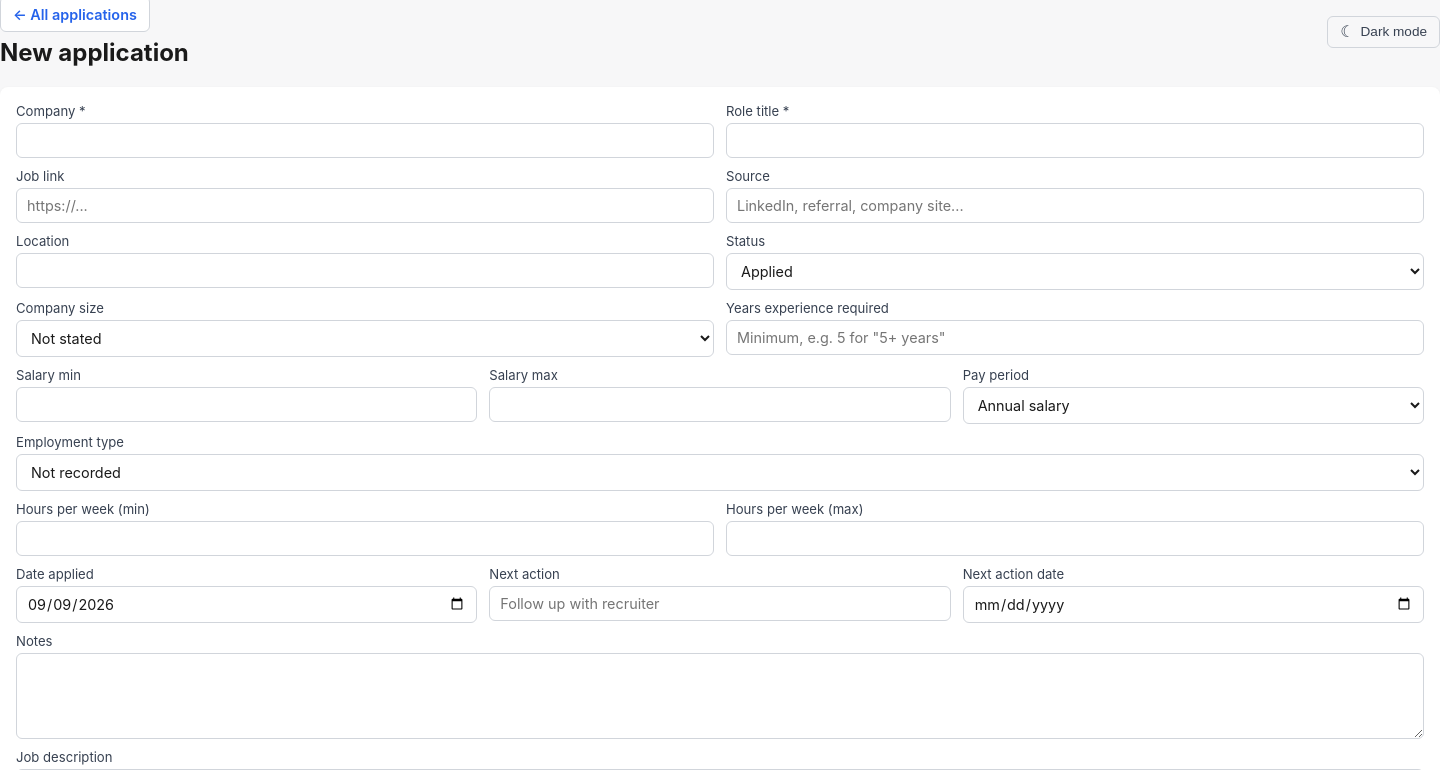
Test case: ApplicationPage — new application › switches to the saved application without crashing
This screenshot has width=1440, height=770.
expect the heading "New application" is shown: met, box [0,38,189,67]
Type "Brand New Co" into the field labelled "Company *" at (365, 140), box [16,123,714,158]
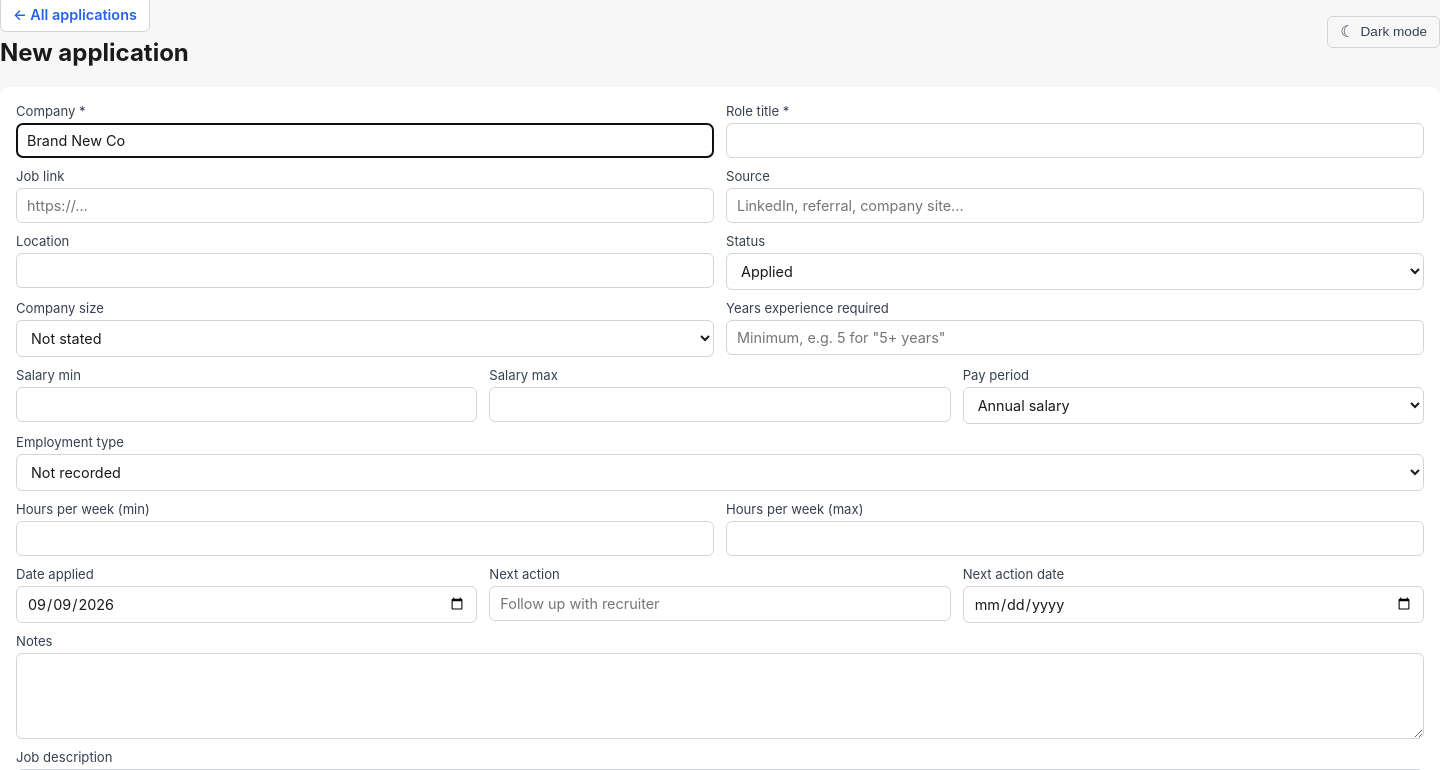
Type "QA Lead" into the field labelled "Role title *" at (1075, 140), box [726,123,1424,158]
(page scrolled)
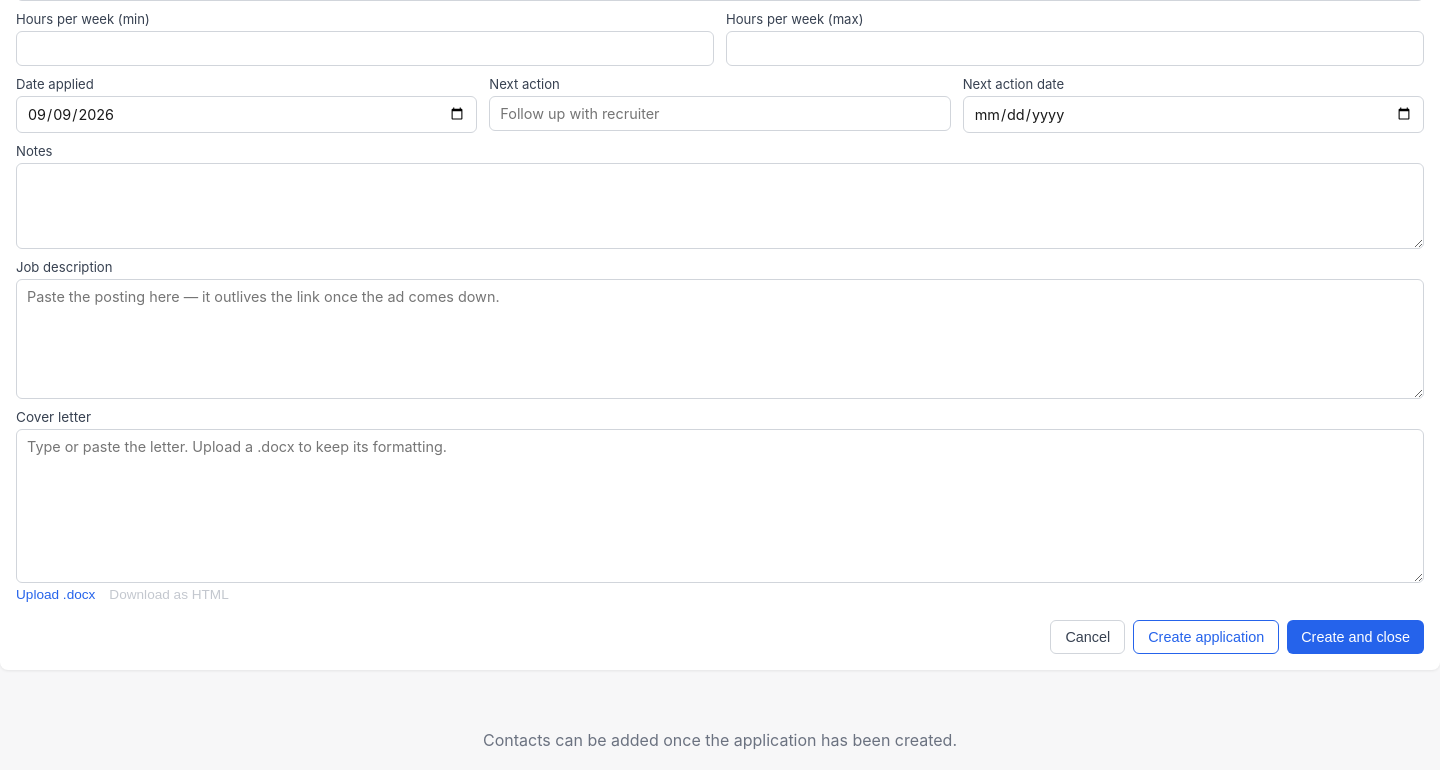
Click the button "Create application" at (1206, 637), box [1133,620,1279,654]
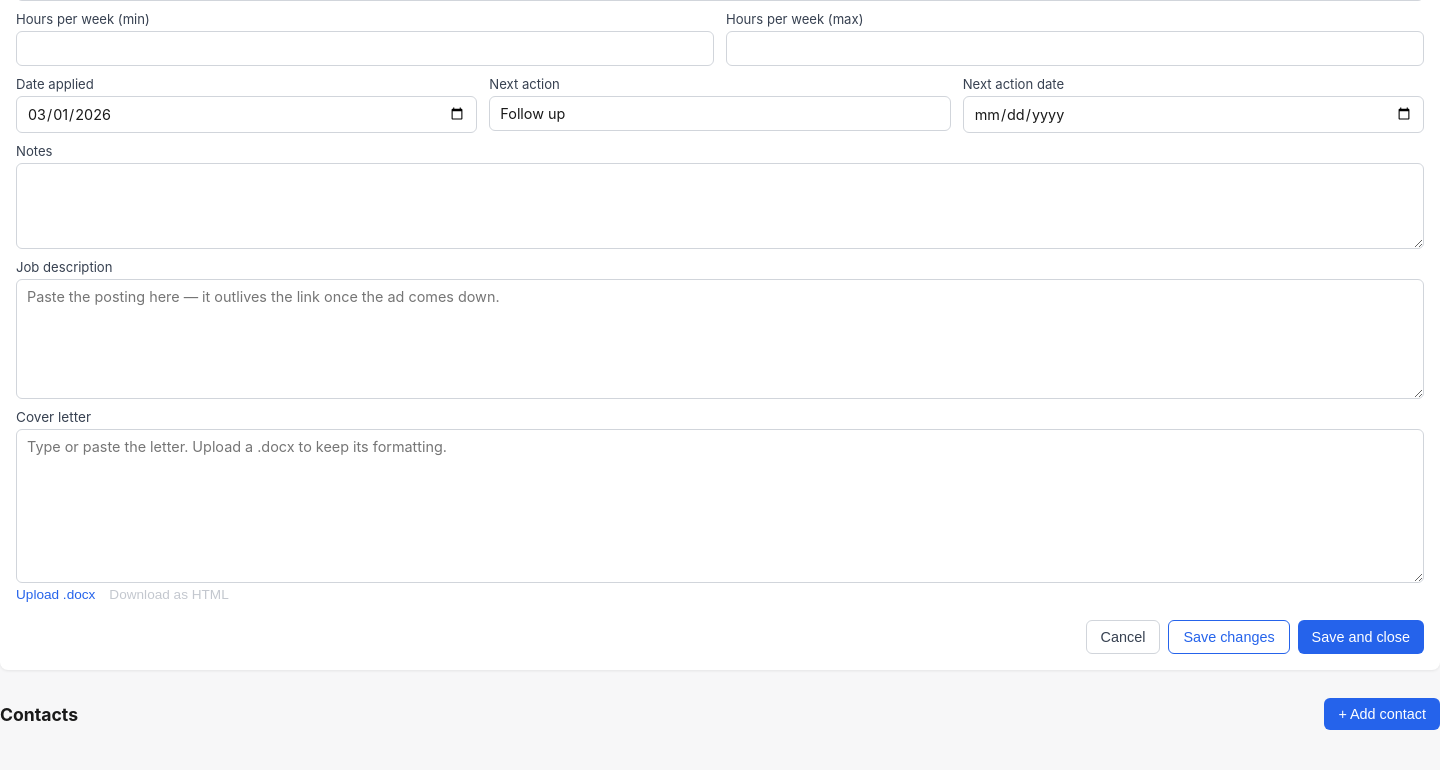
expect the heading "Contacts" is shown: met, box [0,704,78,724]
